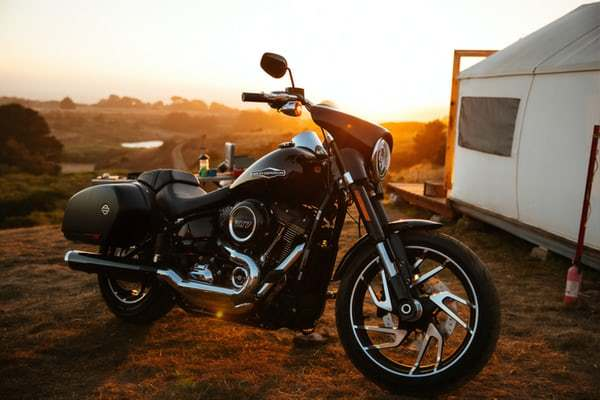6_label: (34, 31, 518, 394)
